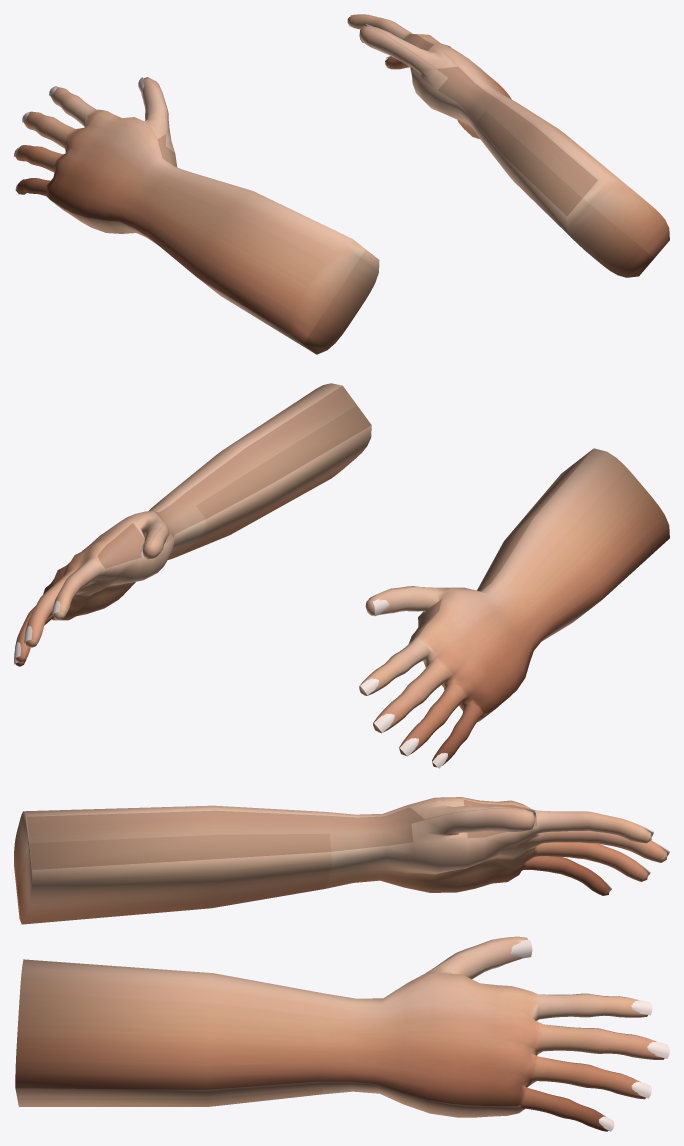
3 views of the same model, one above another, from view 1: azimuth 30°, elevation 25°; view 2: azimuth 150°, elevation 25°; view 3: azimuth 270°, elevation 25° (orthographic). The views are drawn at different scales.
Parts seen in each view (by area): view 1: Left hand, Right hand; view 2: Left hand, Right hand; view 3: Right hand, Left hand.
Part boxes in pixels (x1,y1,x2,y2): Left hand: (14,77,379,354); Right hand: (347,14,669,277); Left hand: (359,448,669,768); Right hand: (14,383,371,666); Right hand: (15,936,669,1131); Left hand: (14,797,669,924).
Bounding box in the file's own units: 3.95 × 1.02 × 4.3.
2 materials, 1 textured.
